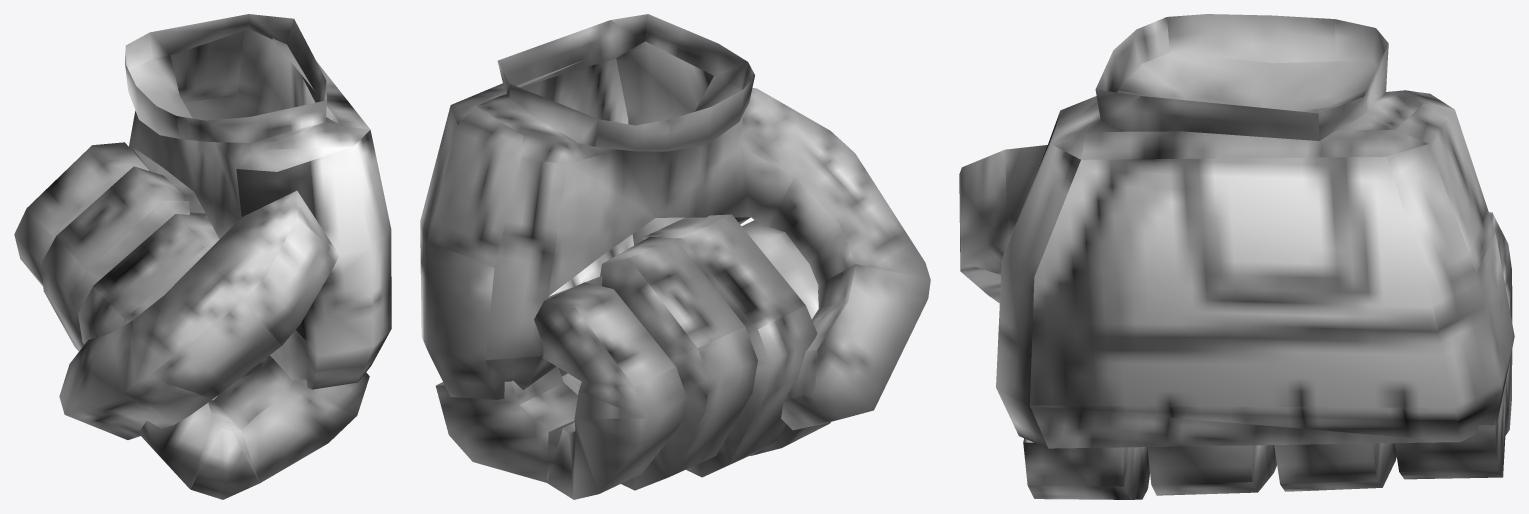
The model's file is l_hand.glb.
3 views of the same model, side by side, from view 1: azimuth 30°, elevation 25°; view 2: azimuth 150°, elevation 25°; view 3: azimuth 270°, elevation 25° (orthographic). The views are drawn at different scales.
Parts seen in each view (by area): view 1: l_hand; view 2: l_hand; view 3: l_hand.
Part boxes in pixels (x1,y1,x2,y2): l_hand: [14, 14, 391, 499]; l_hand: [420, 14, 930, 499]; l_hand: [959, 14, 1514, 499].
Size of the model in its own units: 0.2761 by 0.3095 by 0.3222.
Materials: 3 (3 with a texture image).
